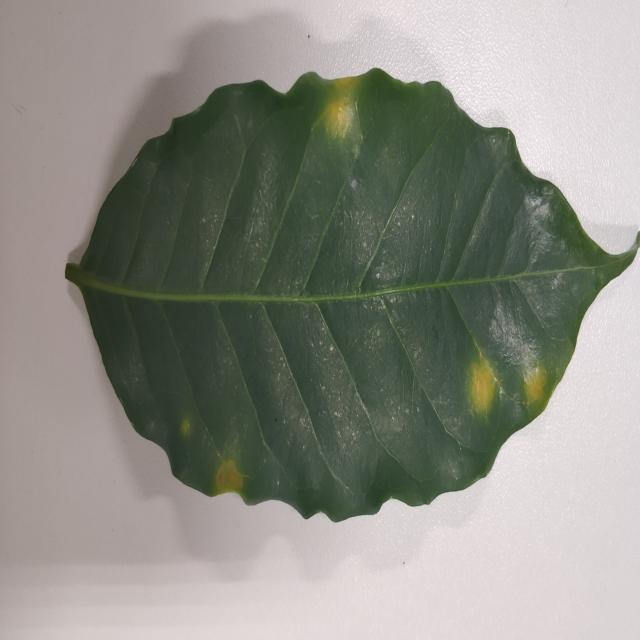Enfermedad-Roya: (63, 69, 640, 525)
